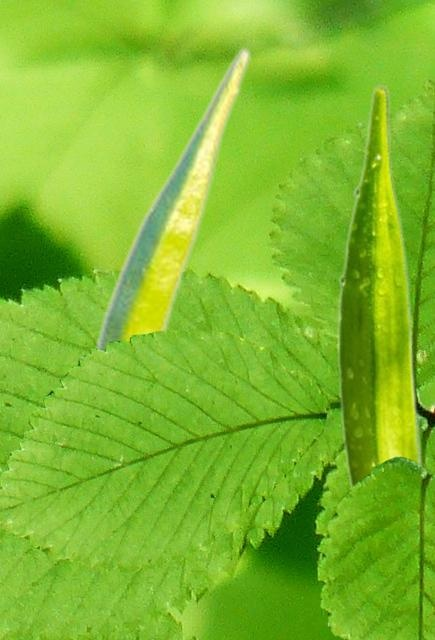okra: (88, 46, 249, 352), (337, 84, 425, 490)
